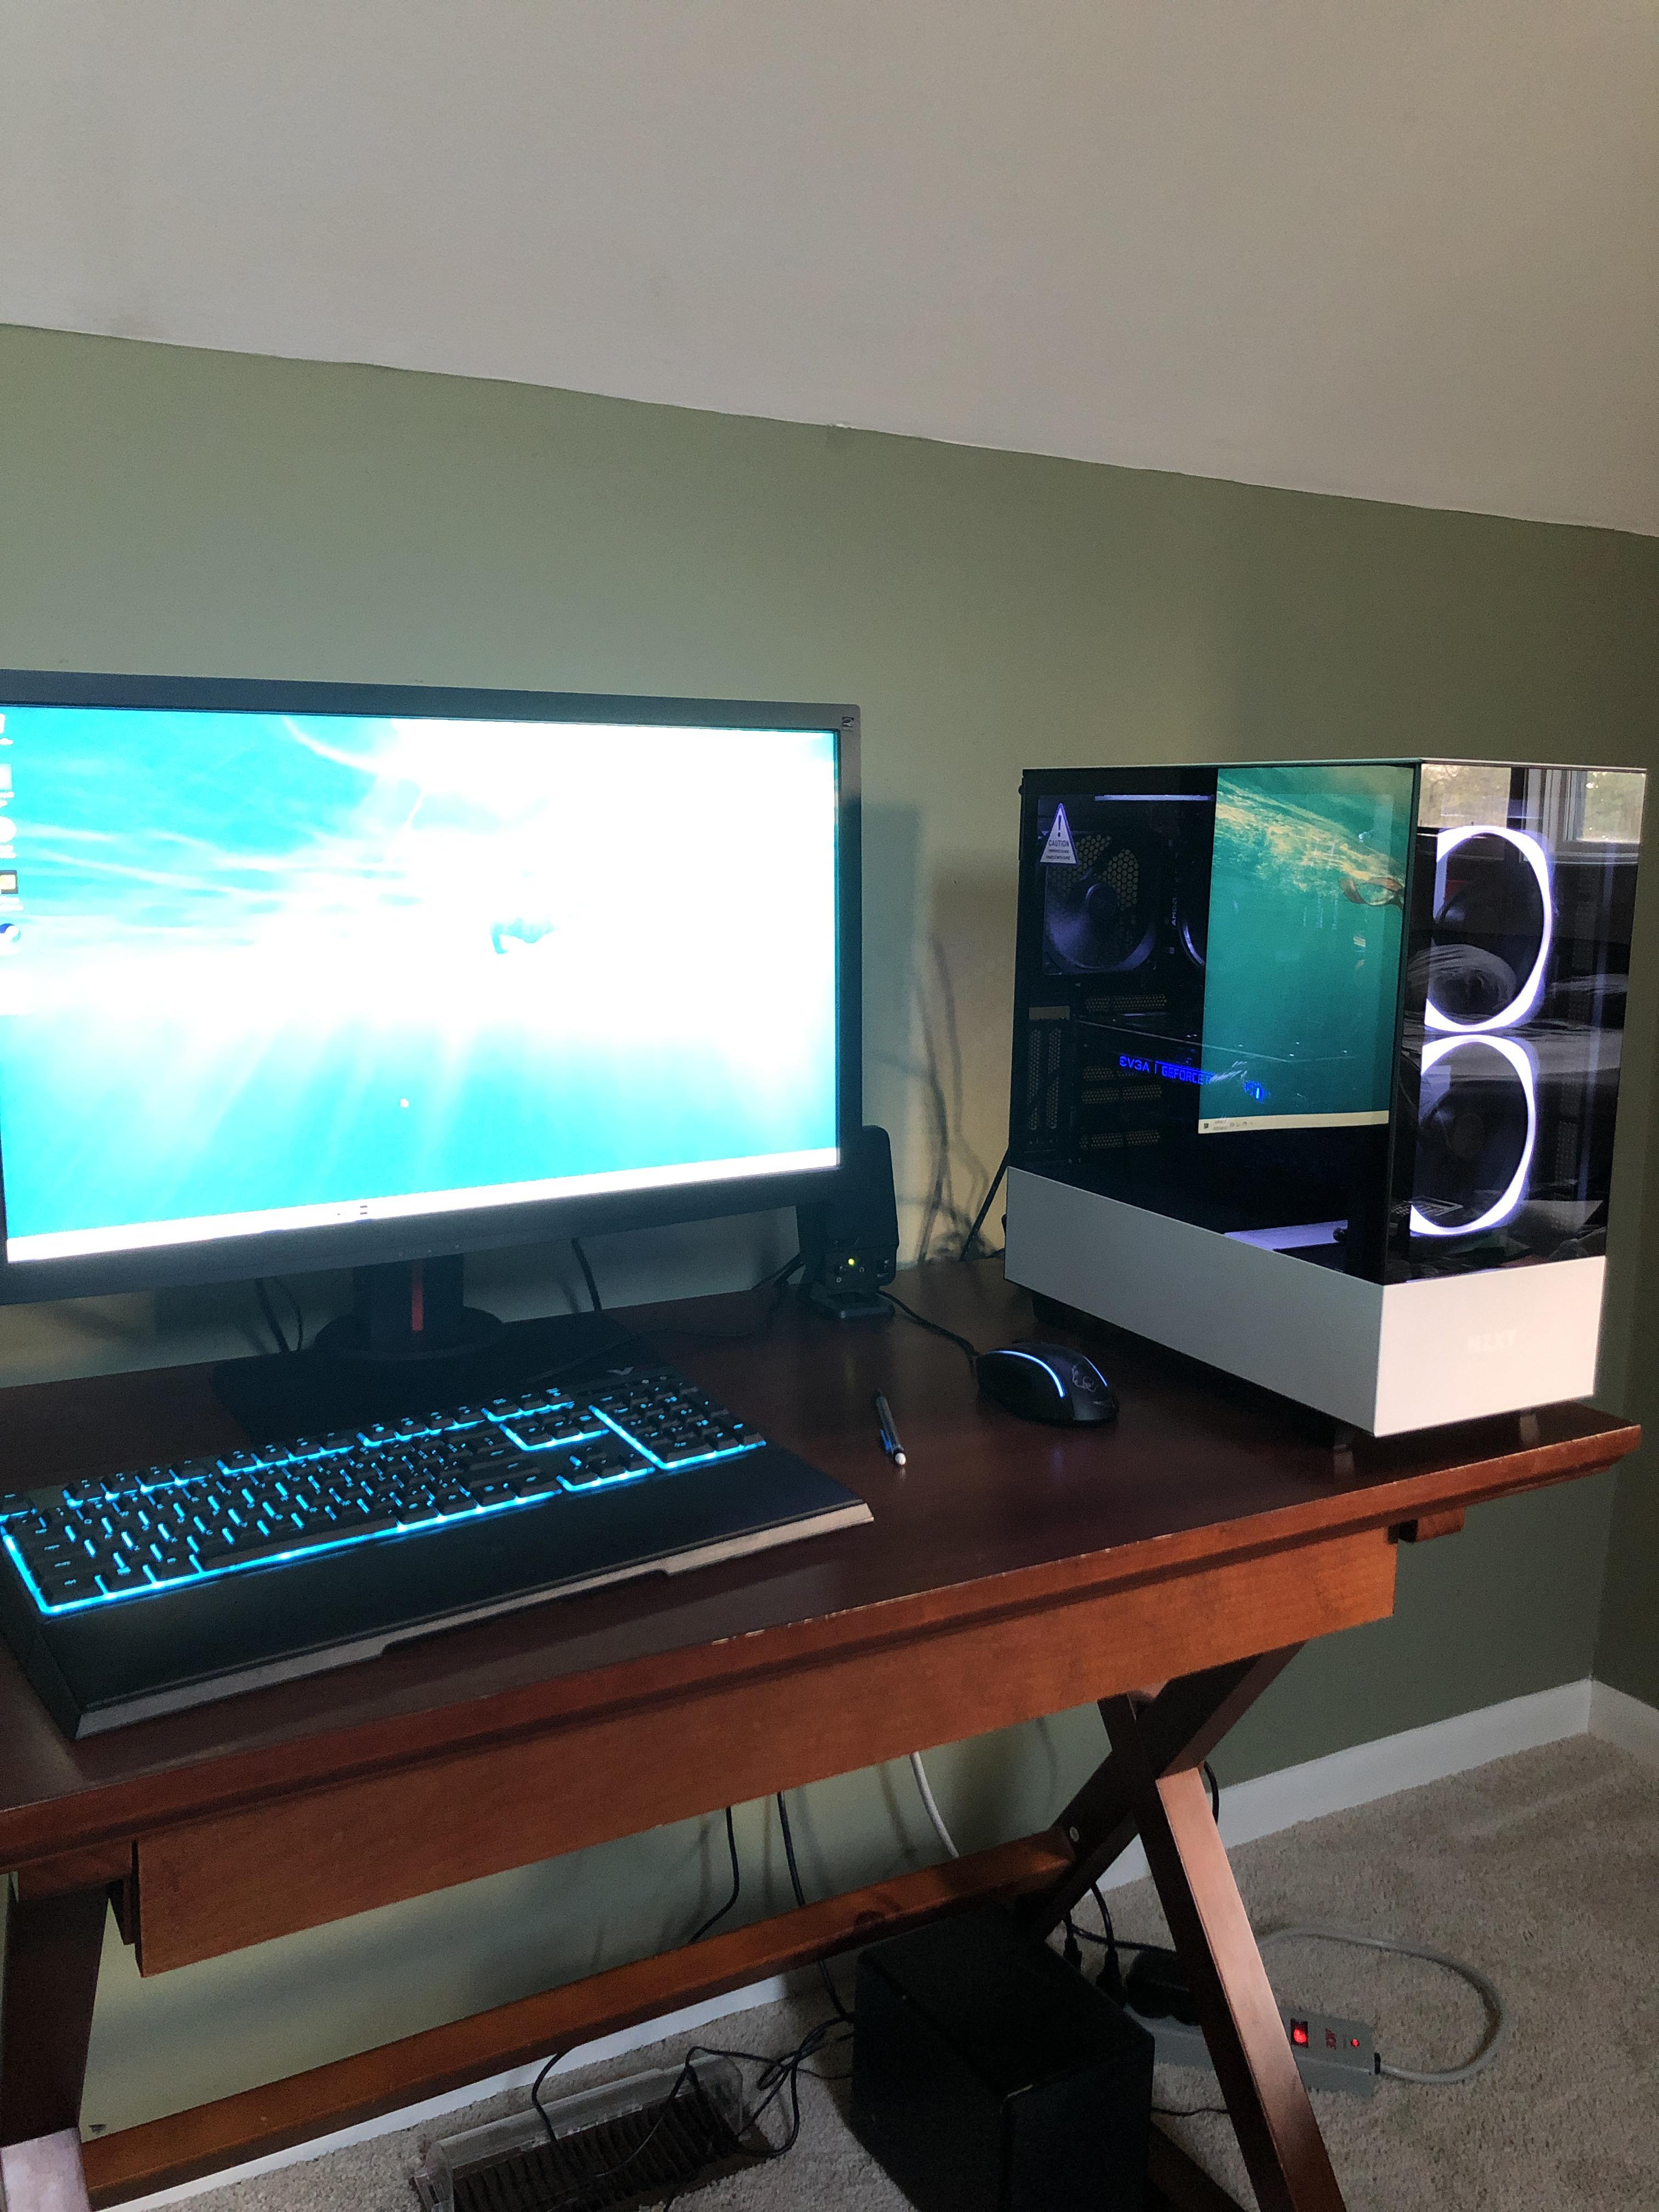Desk (Standing): (0, 1230, 1642, 2205)
Desktop (Generic): (997, 756, 1645, 1432)
External Speakers (Generic): (791, 1122, 906, 1322)
Keyboard (Gaming): (0, 1364, 878, 1738)
Monitor (Landscape): (0, 667, 864, 1392)
Mouse (Generic): (978, 1341, 1133, 1430)
Power Strip: (1093, 1975, 1382, 2090)
